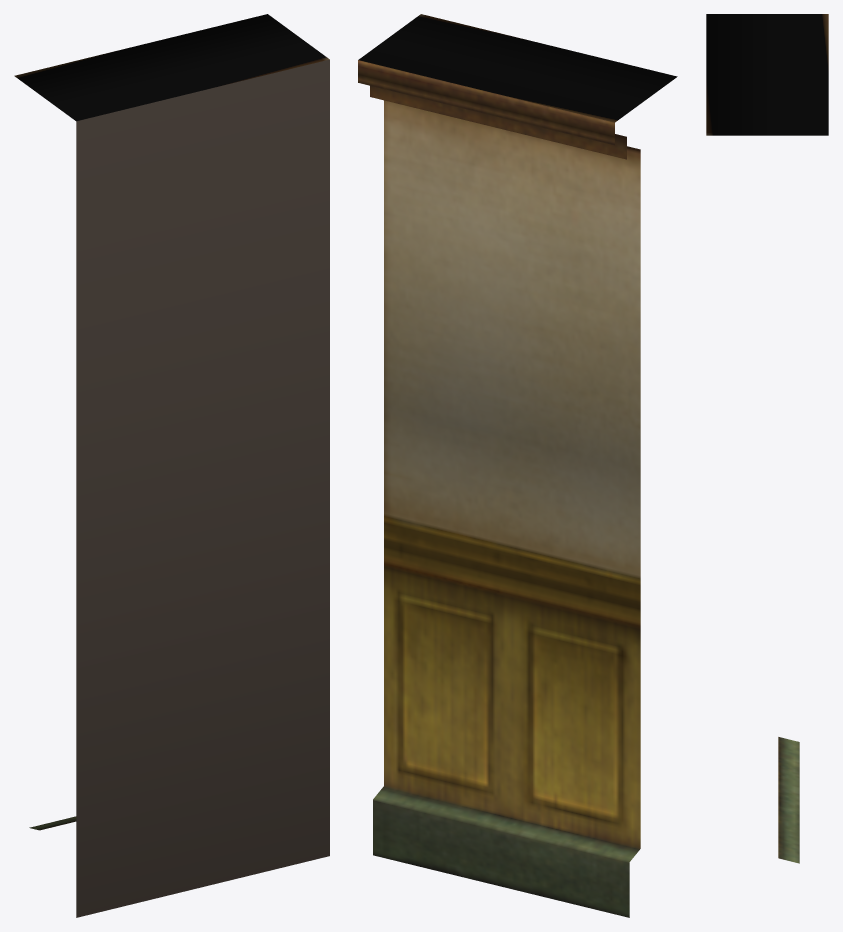
Rendered from a_SCwall06a.glb.
3 renders of one model, left to right at view 1: azimuth 30°, elevation 25°; view 2: azimuth 150°, elevation 25°; view 3: azimuth 270°, elevation 25°, orthographic. The views are drawn at different scales.
Parts seen in each view (by area): view 1: a_SCwall06a; view 2: a_SCwall06a; view 3: a_SCwall06a.
Boxes of the visible parts, x1,y1,x2,y2 form: a_SCwall06a: [14, 14, 329, 917]; a_SCwall06a: [358, 14, 677, 917]; a_SCwall06a: [706, 14, 828, 863].
Size of the model in its own units: 1 by 3 by 0.4244.
1 material, 1 textured.
